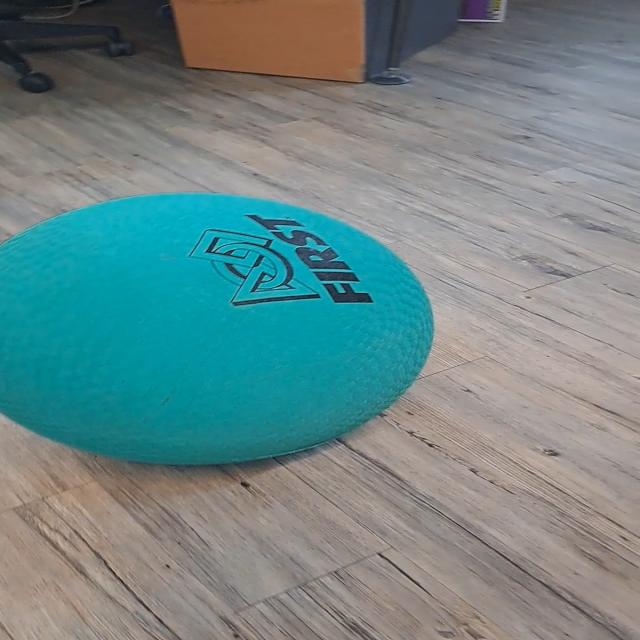ALGAE: (1, 190, 436, 467)
